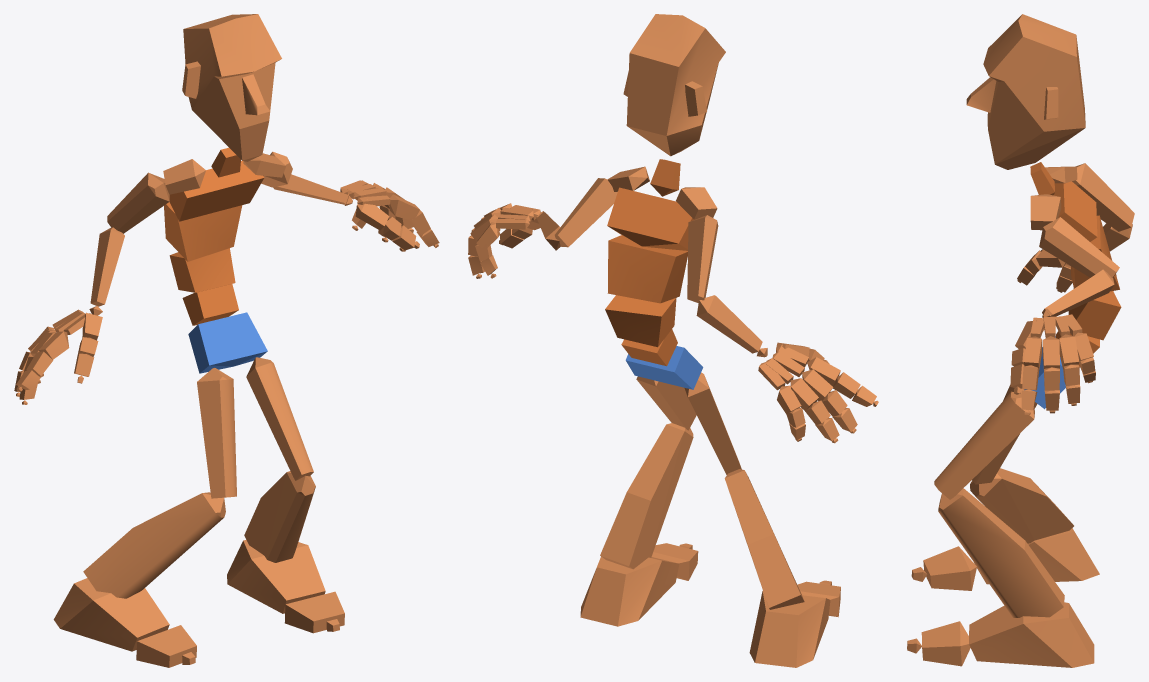
The picture shows the model from 3 angles, left to right: view 1: azimuth 30°, elevation 25°; view 2: azimuth 150°, elevation 25°; view 3: azimuth 270°, elevation 25°; orthographic projection. The views are drawn at different scales.
Visible parts, largest first — view 1: BOPED_Head, BOPED_R_leg, BOPED_R_foot, BOPED_R_foot01, BOPED_L_leg, BOPED_R_legup, BOPED_L_legup, Bone01, Bone04, Bone05, Bone03, BOPED_R_arm_upper (+8 smaller); view 2: BOPED_Head, BOPED_L_leg, BOPED_R_foot01, BOPED_R_foot, BOPED_R_leg, Bone04, Bone05, Bone03, BOPED_R_arm_upper, BOPED_R_legup, BOPED_L_arm_upper, Bone01 (+8 smaller); view 3: BOPED_Head, BOPED_L_leg, BOPED_R_foot01, BOPED_R_leg, BOPED_L_legup, BOPED_R_foot, BOPED_L_arm_upper, BOPED_R_arm_upper, BOPED_R_foot_toe01, BOPED_R_foot_toe04, Bone05, Bone03 (+14 smaller).
Part boxes in pixels (bbox=[...]): BOPED_Head: bbox=[182, 14, 281, 161]; BOPED_R_leg: bbox=[83, 492, 225, 598]; BOPED_R_foot: bbox=[53, 578, 169, 651]; BOPED_R_foot01: bbox=[227, 540, 325, 613]; BOPED_L_leg: bbox=[244, 471, 315, 562]; BOPED_R_legup: bbox=[197, 368, 236, 498]; BOPED_L_legup: bbox=[246, 357, 313, 480]; Bone01: bbox=[188, 312, 267, 373]; Bone04: bbox=[164, 202, 242, 261]; Bone05: bbox=[169, 160, 264, 221]; Bone03: bbox=[169, 248, 235, 292]; BOPED_R_arm_upper: bbox=[107, 172, 169, 233]; BOPED_Head: bbox=[623, 14, 725, 156]; BOPED_L_leg: bbox=[600, 423, 693, 569]; BOPED_R_foot01: bbox=[580, 556, 679, 626]; BOPED_R_foot: bbox=[749, 591, 830, 667]; BOPED_R_leg: bbox=[724, 469, 804, 609]; Bone04: bbox=[607, 235, 687, 303]; Bone05: bbox=[607, 187, 695, 250]; Bone03: bbox=[605, 295, 676, 347]; BOPED_R_arm_upper: bbox=[687, 215, 718, 303]; BOPED_R_legup: bbox=[684, 372, 741, 474]; BOPED_L_arm_upper: bbox=[554, 178, 617, 247]; Bone01: bbox=[625, 346, 703, 389]; BOPED_Head: bbox=[966, 14, 1085, 169]; BOPED_L_leg: bbox=[938, 488, 1064, 617]; BOPED_R_foot01: bbox=[969, 602, 1094, 667]; BOPED_R_leg: bbox=[970, 468, 1073, 543]; BOPED_L_legup: bbox=[934, 391, 1034, 499]; BOPED_R_foot: bbox=[974, 528, 1099, 584]; BOPED_L_arm_upper: bbox=[1039, 217, 1119, 277]; BOPED_R_arm_upper: bbox=[1072, 163, 1134, 231]; BOPED_R_foot_toe01: bbox=[923, 546, 976, 590]; BOPED_R_foot_toe04: bbox=[921, 621, 970, 666]; Bone05: bbox=[1053, 181, 1097, 241]; Bone03: bbox=[1068, 288, 1121, 340].
Bounding box in the file's own units: 130 × 177 × 60.04.
